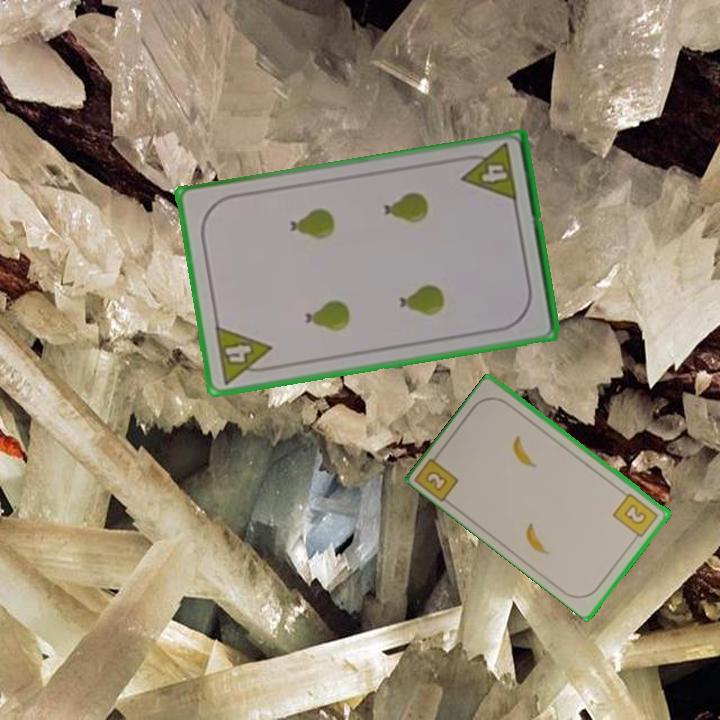2b: (610, 489, 662, 544), (413, 447, 462, 505)
4p: (211, 322, 277, 387), (456, 140, 520, 205)
